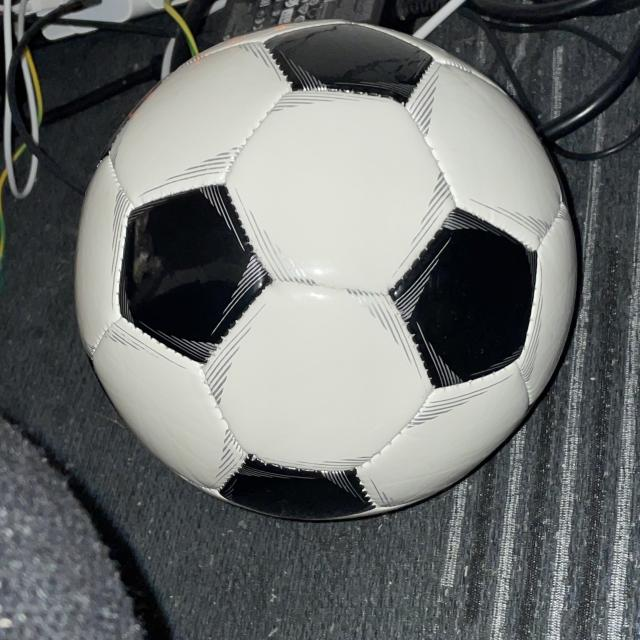soccer: (77, 19, 580, 522)
